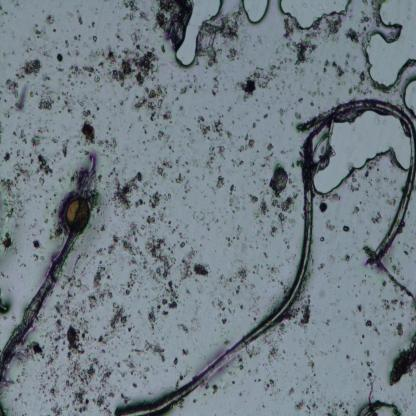Air bubble: (313, 105, 416, 200), (364, 0, 416, 92), (171, 0, 224, 65), (278, 0, 352, 29), (240, 0, 272, 29), (402, 76, 416, 116)
Background material: (144, 237, 179, 316), (107, 52, 163, 86), (156, 0, 193, 50), (0, 162, 32, 219), (116, 218, 148, 273), (235, 61, 278, 101), (132, 83, 175, 123), (97, 302, 128, 354), (110, 166, 142, 211), (388, 340, 416, 388), (87, 262, 114, 307), (46, 303, 64, 366), (198, 23, 225, 65), (64, 358, 99, 390), (221, 11, 242, 64), (251, 262, 288, 292), (62, 324, 91, 360), (198, 116, 235, 144), (323, 55, 356, 85), (180, 249, 209, 282), (354, 396, 403, 415), (62, 290, 91, 322), (293, 399, 353, 414), (298, 357, 320, 396), (293, 37, 320, 68), (38, 366, 60, 404), (312, 16, 344, 42), (365, 347, 379, 404), (221, 266, 249, 294), (86, 45, 119, 68), (246, 215, 268, 249), (186, 208, 220, 230), (66, 65, 96, 88), (264, 332, 284, 366), (122, 355, 148, 381), (176, 72, 203, 97), (269, 165, 290, 197), (270, 193, 301, 214), (94, 233, 118, 260), (139, 339, 167, 362), (18, 343, 48, 364), (36, 81, 56, 111), (247, 192, 270, 218), (119, 269, 141, 295), (268, 212, 288, 240), (97, 358, 113, 392), (204, 145, 220, 178), (56, 91, 78, 115), (174, 362, 192, 391), (13, 81, 30, 111), (80, 116, 96, 147), (146, 191, 172, 210), (351, 69, 370, 94), (96, 135, 118, 156), (34, 154, 53, 178), (0, 224, 16, 252), (299, 335, 318, 358), (228, 181, 241, 214), (164, 218, 185, 238), (237, 130, 256, 152), (146, 304, 159, 336), (225, 224, 243, 247), (47, 222, 65, 244), (58, 276, 86, 290), (72, 390, 89, 412), (279, 55, 293, 81), (22, 58, 42, 76), (380, 296, 401, 313), (0, 292, 13, 319), (282, 16, 297, 39), (171, 155, 190, 173), (94, 394, 111, 414), (246, 158, 258, 186), (345, 26, 361, 47), (309, 80, 327, 98), (30, 25, 48, 43), (372, 172, 384, 199), (156, 160, 172, 180), (246, 340, 262, 360), (364, 160, 380, 179), (33, 115, 49, 134), (122, 2, 138, 21), (216, 297, 233, 314), (273, 80, 289, 98), (364, 317, 380, 335), (145, 210, 164, 225), (129, 30, 143, 50), (302, 297, 312, 325), (20, 36, 35, 54), (37, 45, 55, 60), (6, 79, 20, 98), (73, 139, 89, 155), (30, 130, 45, 147), (223, 363, 242, 376), (210, 73, 220, 97), (60, 134, 70, 158), (350, 173, 362, 193), (62, 44, 80, 57), (157, 128, 171, 144), (370, 210, 384, 226), (392, 321, 404, 339), (389, 261, 404, 275), (262, 378, 277, 392), (119, 390, 132, 406), (178, 319, 190, 336), (113, 22, 123, 42), (91, 94, 102, 112), (276, 42, 292, 54), (324, 218, 336, 234), (359, 12, 370, 29), (28, 216, 41, 230), (139, 10, 153, 23), (30, 237, 44, 250), (10, 389, 22, 404), (384, 194, 399, 206), (278, 106, 286, 128), (144, 36, 154, 53), (16, 367, 26, 384), (47, 132, 60, 145), (274, 322, 287, 335), (216, 175, 228, 189), (330, 191, 342, 205), (382, 176, 396, 188), (37, 72, 51, 84), (265, 142, 274, 160), (230, 158, 246, 168), (19, 128, 29, 144), (52, 402, 64, 415), (205, 182, 217, 195), (294, 67, 306, 80), (44, 13, 56, 26), (175, 172, 186, 186), (72, 256, 80, 275), (252, 36, 262, 51), (182, 178, 192, 193), (78, 97, 90, 109), (220, 378, 228, 396), (31, 251, 44, 262), (52, 152, 62, 166), (280, 146, 294, 156), (57, 171, 65, 188), (8, 0, 23, 9), (402, 398, 411, 413), (317, 201, 329, 212), (248, 367, 260, 378), (259, 248, 270, 260), (0, 120, 7, 138), (210, 382, 219, 396), (16, 146, 25, 160), (281, 237, 290, 251), (289, 175, 298, 189), (13, 69, 24, 80), (342, 251, 352, 263), (285, 385, 295, 397), (294, 95, 304, 107), (117, 101, 127, 113), (0, 400, 8, 415), (76, 12, 84, 27), (3, 106, 12, 119), (181, 346, 191, 357), (294, 110, 304, 121), (402, 247, 412, 258), (350, 204, 360, 215), (178, 102, 187, 114), (340, 224, 352, 233), (182, 124, 192, 134), (316, 261, 326, 271), (363, 230, 371, 242), (260, 176, 268, 188), (239, 359, 247, 371), (172, 355, 179, 368), (63, 37, 70, 50), (107, 117, 112, 135), (1, 270, 10, 280), (64, 8, 73, 18), (81, 108, 92, 116), (221, 316, 229, 327), (56, 52, 64, 63), (158, 44, 166, 55), (226, 105, 235, 114), (363, 188, 371, 198), (300, 324, 308, 334), (98, 222, 106, 232), (356, 304, 364, 314), (186, 140, 196, 148), (50, 191, 57, 202), (182, 222, 191, 230), (178, 240, 186, 249), (318, 234, 326, 243), (167, 144, 176, 152), (94, 74, 100, 86), (147, 136, 156, 144), (203, 66, 211, 75), (0, 5, 7, 15), (51, 205, 58, 215), (4, 150, 9, 164), (323, 316, 330, 326), (56, 66, 66, 73), (44, 198, 50, 209), (28, 152, 34, 163), (88, 22, 96, 30), (38, 178, 46, 186), (74, 33, 82, 41), (381, 279, 388, 288), (334, 97, 341, 106), (142, 124, 148, 134), (231, 378, 238, 386), (289, 219, 297, 226), (12, 130, 18, 139), (127, 125, 132, 135), (262, 113, 269, 120), (319, 290, 326, 297), (92, 35, 98, 43), (98, 175, 104, 183), (345, 354, 351, 362), (20, 261, 26, 269), (132, 381, 138, 389), (360, 277, 366, 285), (1, 50, 7, 57), (300, 84, 305, 92), (290, 161, 294, 171), (10, 146, 14, 156), (10, 48, 15, 56), (52, 26, 57, 34), (259, 162, 265, 168), (39, 228, 44, 235), (192, 397, 196, 405), (368, 179, 372, 187), (261, 403, 266, 409), (142, 139, 146, 146), (252, 121, 256, 128), (310, 103, 315, 108), (203, 194, 208, 199), (355, 390, 360, 395), (412, 318, 416, 324), (238, 392, 242, 398), (359, 199, 363, 204), (361, 208, 366, 212), (202, 393, 207, 397), (362, 334, 366, 339), (266, 106, 271, 110), (144, 146, 147, 152), (253, 378, 256, 383), (337, 285, 340, 290), (408, 211, 410, 218), (257, 379, 261, 382), (337, 310, 340, 314), (359, 340, 362, 344), (4, 100, 7, 104), (294, 362, 297, 366), (8, 63, 11, 66), (364, 274, 367, 277), (362, 362, 364, 366), (355, 293, 357, 297)
Cellulose filter fibre: (0, 165, 99, 376), (361, 244, 414, 299)
Diatom: (66, 197, 90, 231)
Microfibre: (113, 95, 416, 415)
